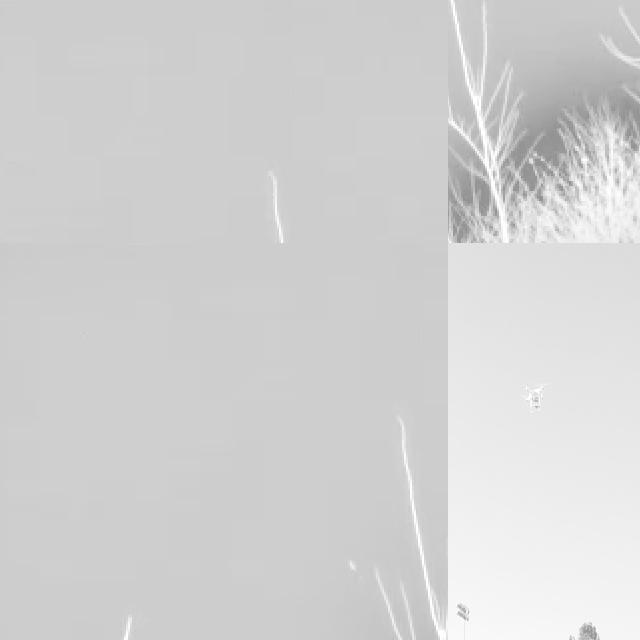0: (340, 552, 360, 582)
drone: (518, 378, 548, 418)
